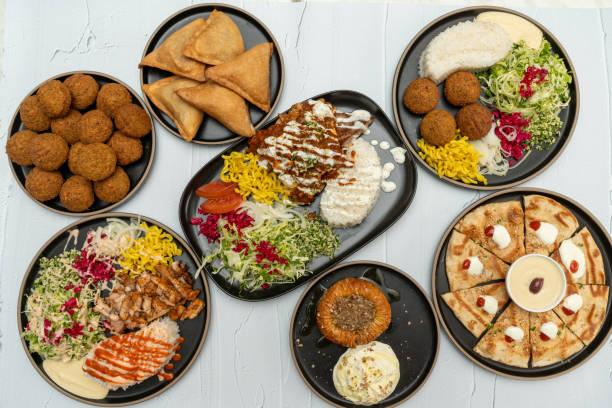Braised Crucian Carp: (180, 90, 411, 299), (16, 213, 206, 407), (430, 187, 610, 380), (392, 5, 575, 192), (289, 259, 440, 406), (5, 70, 154, 213), (139, 3, 282, 147)
